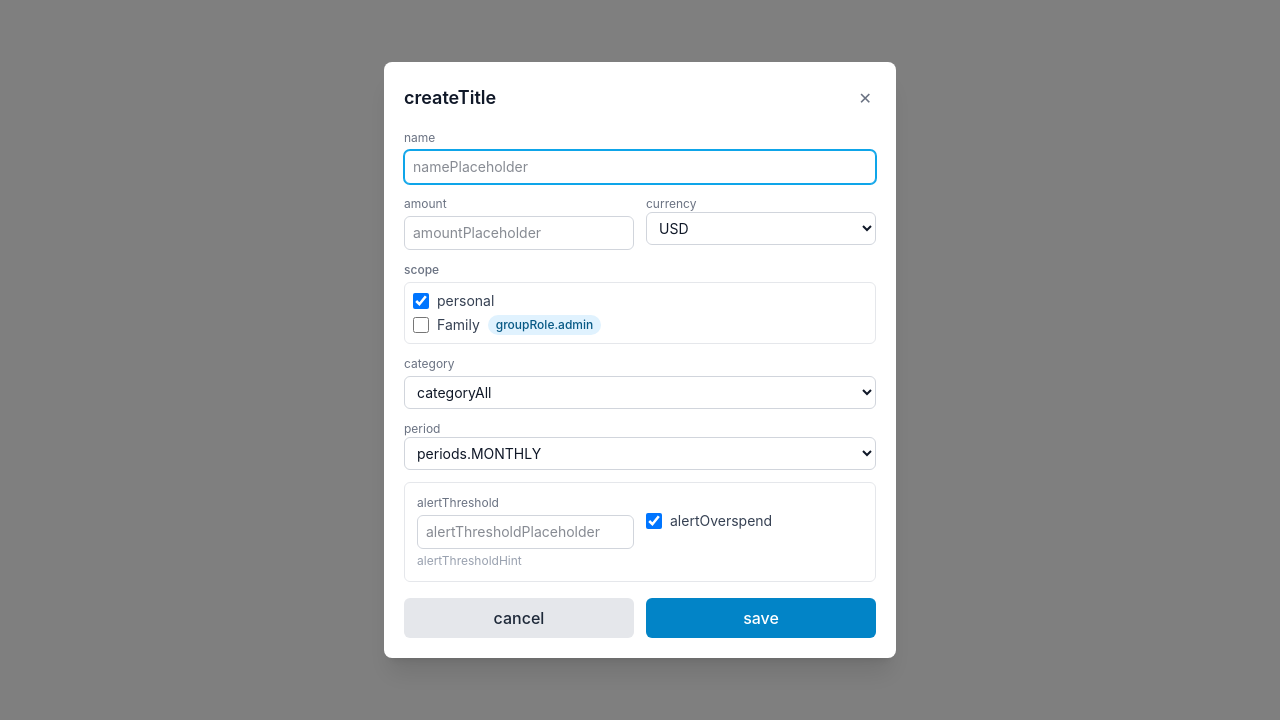
Scenario: BudgetFormDialog › create: picking a group scope flips the currency to the group's default
The width and height of the screenshot is (1280, 720).
Click the checkbox with test id "scope-toggle-group-g1" at x=421, y=325, box [413,317,429,333]
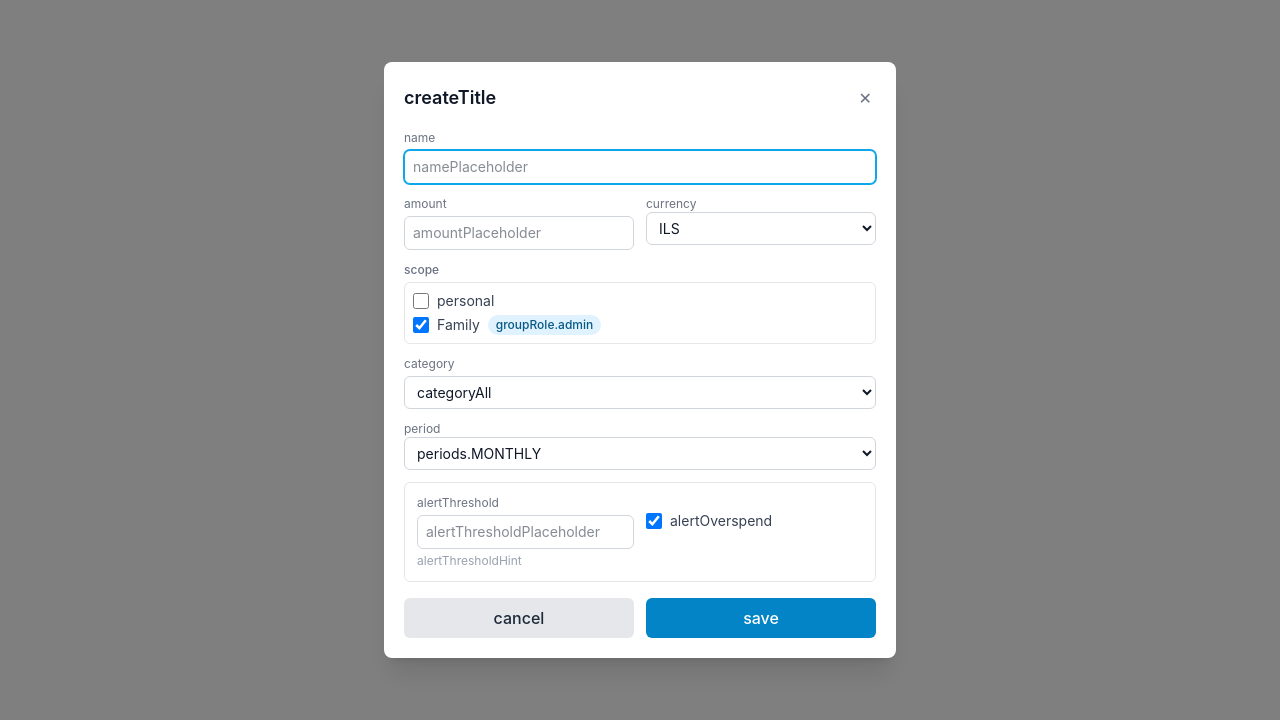
Result: the dropdown with test id "budget-form-currency" shows "ILS" at [646,212,876,245]
